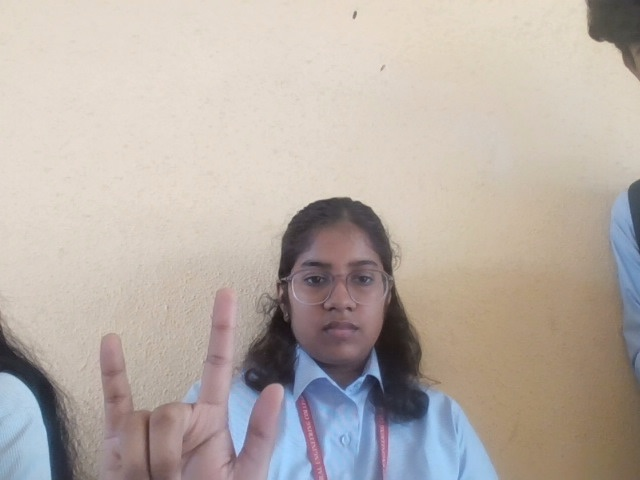I Love You: (96, 271, 292, 480)
